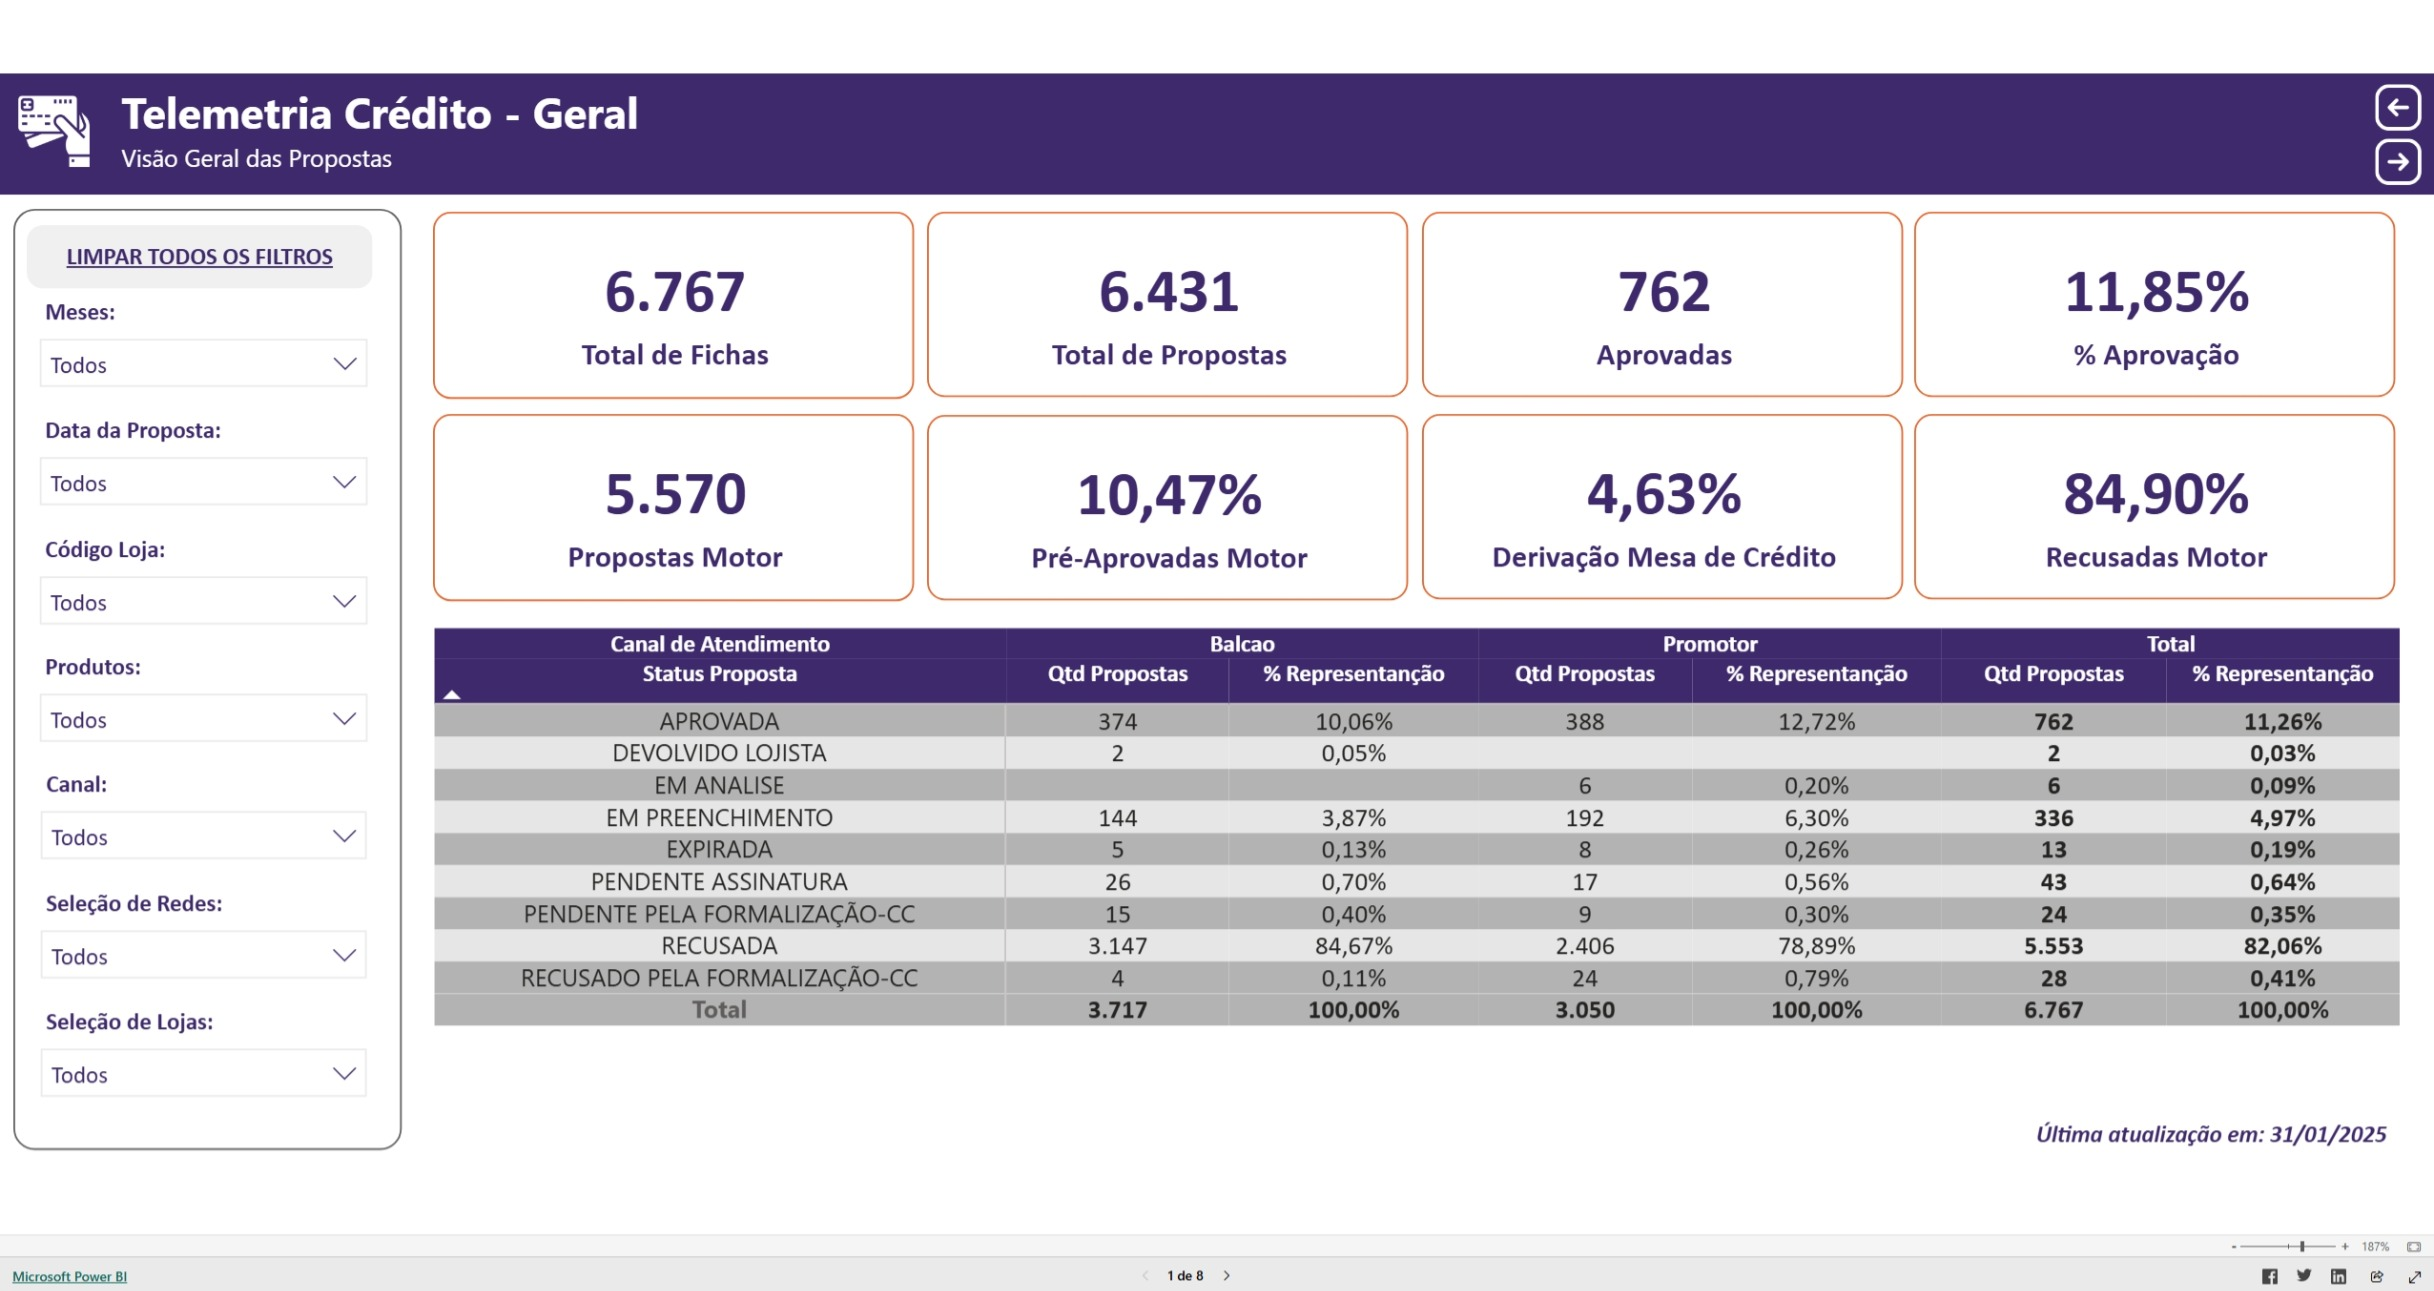

The page's visual inventory and layout, read from the dashboard file:
{"tool":"powerbi","page":{"name":"Geral","canvas":[1366,610],"ordinal":0},"visuals":[{"type":"shape","box":[7.6,76.2,218.4,528.1],"z":0},{"type":"shape","box":[0,0,1366,68],"z":2000},{"type":"textbox","box":[63.4,0,430.8,44.4],"z":3000},{"type":"textbox","box":[63.2,33.8,430.4,30.8],"z":4000},{"type":"slicer","fields":{"Values":["Propostas.emissao.Variation.Hierarquia de datas.Ano","Propostas.emissao.Variation.Hierarquia de datas.Mês"]},"box":[12.5,119.9,204.2,64.6],"z":5000},{"type":"slicer","fields":{"Values":["Propostas.emissao"]},"box":[12.4,186.1,203.7,65.9],"z":6000},{"type":"slicer","fields":{"Values":["Propostas.lojista"]},"box":[12.4,253.2,203.7,64.7],"z":7000},{"type":"slicer","fields":{"Values":["Propostas.nome_produto"]},"box":[12.4,319.1,203.7,64.7],"z":8000},{"type":"slicer","fields":{"Values":["Propostas.nome_rede"]},"box":[12.7,451.9,203.1,64.7],"z":9000},{"type":"slicer","fields":{"Values":["Propostas.nome_loja"]},"box":[12.7,518,203.1,64.7],"z":10000},{"type":"slicer","fields":{"Values":["Propostas.canal"]},"box":[12.7,384.7,203.1,64.7],"z":11000},{"type":"shape","box":[15.2,85.1,194.2,35.5],"z":12000},{"type":"card","fields":{"Values":["Sum(Propostas.qtd_propostas)"]},"box":[242.9,77.8,270,105],"z":13000},{"type":"card","fields":{"Values":["Sum(Propostas.qtd_propostas)"]},"box":[520.5,77.8,270.3,104.3],"z":14000},{"type":"card","fields":{"Values":["Sum(Propostas.qtd_propostas)"]},"box":[798.1,77.8,270.3,104.3],"z":15000},{"type":"card","fields":{"Values":["#Medidas.%_Aprovadas"]},"box":[1074.2,77.8,270.3,104.3],"z":16000},{"type":"pivotTable","fields":{"Rows":["Propostas.descricao"],"Columns":["Propostas.canal"],"Values":["Sum(Propostas.qtd_propostas)","Divide(Sum(Propostas.qtd_propostas), ScopedEval(Sum(Propostas.qtd_propostas), [Role.Columns]))"]},"box":[238.6,306.1,1124.8,277.2],"z":17000},{"type":"card","fields":{"Values":["#Medidas.atualizacao"]},"box":[1115.9,583.3,250.1,26.7],"z":18000},{"type":"image","box":[4.4,7.3,52.9,49.9],"z":19000},{"type":"image","box":[1327.9,31.7,35.5,35.5],"z":20000},{"type":"image","box":[1327.9,1.3,35.5,35.5],"z":21000},{"type":"card","fields":{"Values":["Sum(Propostas.qtd_propostas)"]},"box":[243.1,191,270.1,104.8],"z":23000},{"type":"card","fields":{"Values":["#Medidas.Crivo_A"]},"box":[520.3,191.7,270.1,104.2],"z":24000},{"type":"card","fields":{"Values":["#Medidas.Crivo_P"]},"box":[798.1,191,270.1,104.2],"z":25000},{"type":"card","fields":{"Values":["#Medidas.Crivo_R"]},"box":[1074,191,270.1,104.2],"z":26000}]}

Visuals, with their boxes on the page's 1366x610 design canvas (x1, y1, x2, y2). These are canvas units, not pixel positions in the 2434x1291 screenshot, which may show the page scaled, cropped or inside an application window:
shape: left=8, top=76, right=226, bottom=604
shape: left=0, top=0, right=1366, bottom=68
textbox: left=63, top=0, right=494, bottom=44
textbox: left=63, top=34, right=494, bottom=65
slicer - Propostas.emissao.Variation.Hierarquia de datas.Ano x Propostas.emissao.Variation.Hierarquia de datas.Mês: left=12, top=120, right=217, bottom=184
slicer - Propostas.emissao: left=12, top=186, right=216, bottom=252
slicer - Propostas.lojista: left=12, top=253, right=216, bottom=318
slicer - Propostas.nome_produto: left=12, top=319, right=216, bottom=384
slicer - Propostas.nome_rede: left=13, top=452, right=216, bottom=517
slicer - Propostas.nome_loja: left=13, top=518, right=216, bottom=583
slicer - Propostas.canal: left=13, top=385, right=216, bottom=449
shape: left=15, top=85, right=209, bottom=121
card - Sum(Propostas.qtd_propostas): left=243, top=78, right=513, bottom=183
card - Sum(Propostas.qtd_propostas): left=520, top=78, right=791, bottom=182
card - Sum(Propostas.qtd_propostas): left=798, top=78, right=1068, bottom=182
card - #Medidas.%_Aprovadas: left=1074, top=78, right=1344, bottom=182
pivotTable - Propostas.descricao x Propostas.canal: left=239, top=306, right=1363, bottom=583
card - #Medidas.atualizacao: left=1116, top=583, right=1366, bottom=610
image: left=4, top=7, right=57, bottom=57
image: left=1328, top=32, right=1363, bottom=67
image: left=1328, top=1, right=1363, bottom=37
card - Sum(Propostas.qtd_propostas): left=243, top=191, right=513, bottom=296
card - #Medidas.Crivo_A: left=520, top=192, right=790, bottom=296
card - #Medidas.Crivo_P: left=798, top=191, right=1068, bottom=295
card - #Medidas.Crivo_R: left=1074, top=191, right=1344, bottom=295
